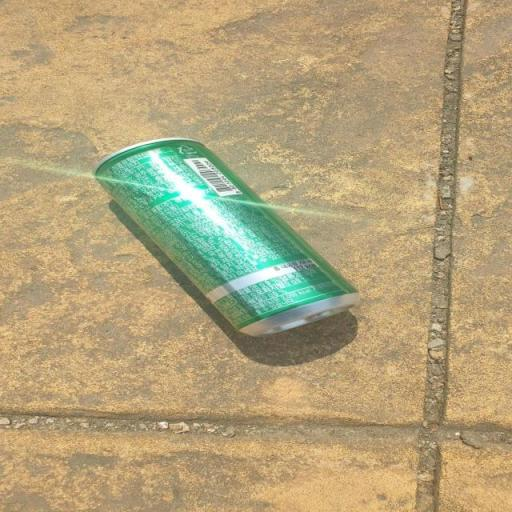metal: (19, 98, 353, 353)
